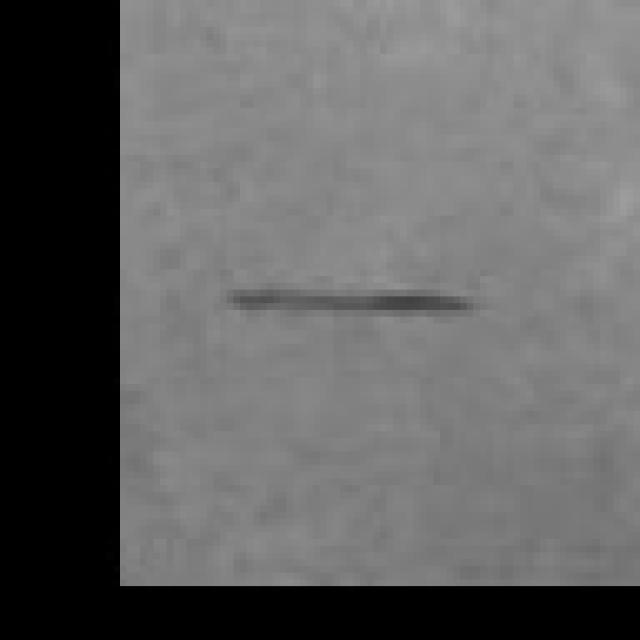Defect4: (210, 248, 496, 352)
